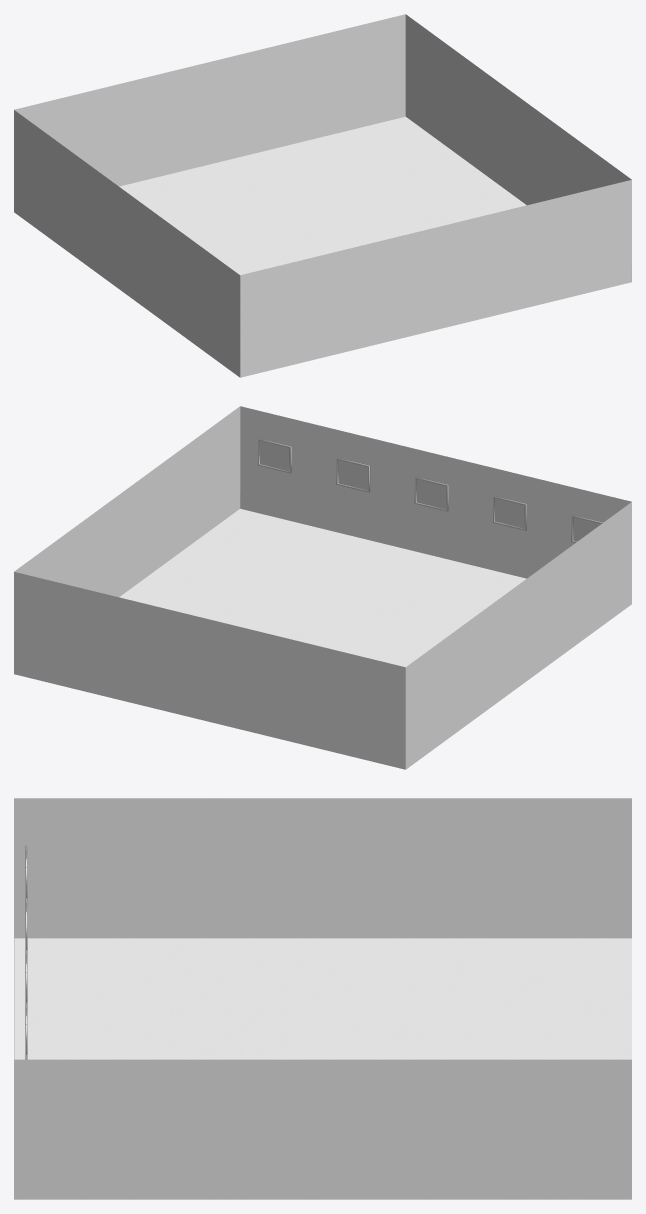
The model's file is Virtual_Museum.glb.
3 renders of one model, top to bottom at view 1: azimuth 30°, elevation 25°; view 2: azimuth 150°, elevation 25°; view 3: azimuth 270°, elevation 25°, orthographic. The views are drawn at different scales.
Visible parts, largest first — view 1: wall; view 2: wall, Artwork_01, Artwork_02, Artwork_04, Artwork_05; view 3: wall.
Part boxes in pixels (x1=…): wall: x1=14, y1=14, x2=631, y2=377; wall: x1=14, y1=406, x2=631, y2=769; Artwork_01: x1=416, y1=479, x2=446, y2=509; Artwork_02: x1=495, y1=498, x2=524, y2=528; Artwork_04: x1=338, y1=460, x2=367, y2=490; Artwork_05: x1=260, y1=440, x2=289, y2=471; wall: x1=14, y1=798, x2=631, y2=1199.
Bounding box in the file's own units: 10 × 2.5 × 10.
Materials: 3 (2 with a texture image).
